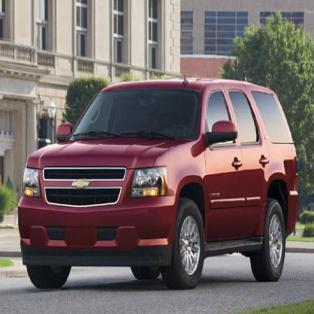Auto: (17, 74, 300, 291)
